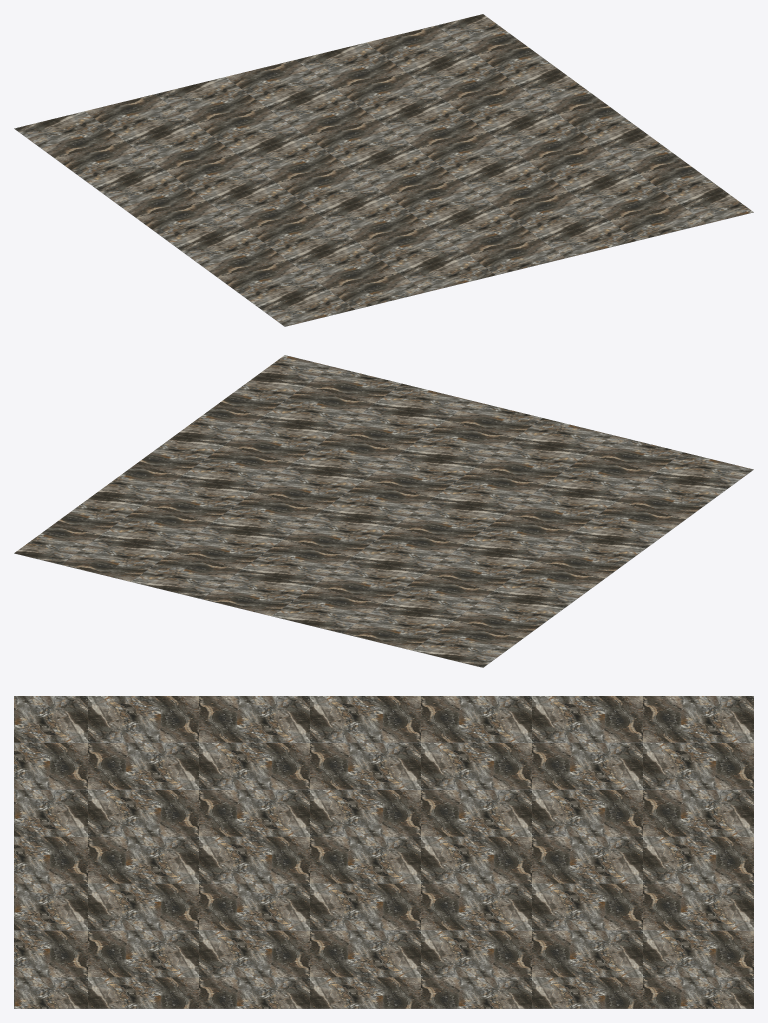
File: nero-belgio-120x120.glb
3 views of the same model, one above another, from view 1: azimuth 30°, elevation 25°; view 2: azimuth 150°, elevation 25°; view 3: azimuth 270°, elevation 25° (orthographic). The views are drawn at different scales.
Visible parts, largest first — view 1: Nero Belgio; view 2: Nero Belgio; view 3: Nero Belgio.
Boxes of the visible parts, x1,y1,x2,y2 form: Nero Belgio: (14, 14, 753, 326); Nero Belgio: (14, 355, 753, 667); Nero Belgio: (14, 696, 753, 1008).
Bounding box in the file's own units: 8 × 0.003 × 8.
Materials: 2 (1 with a texture image).
